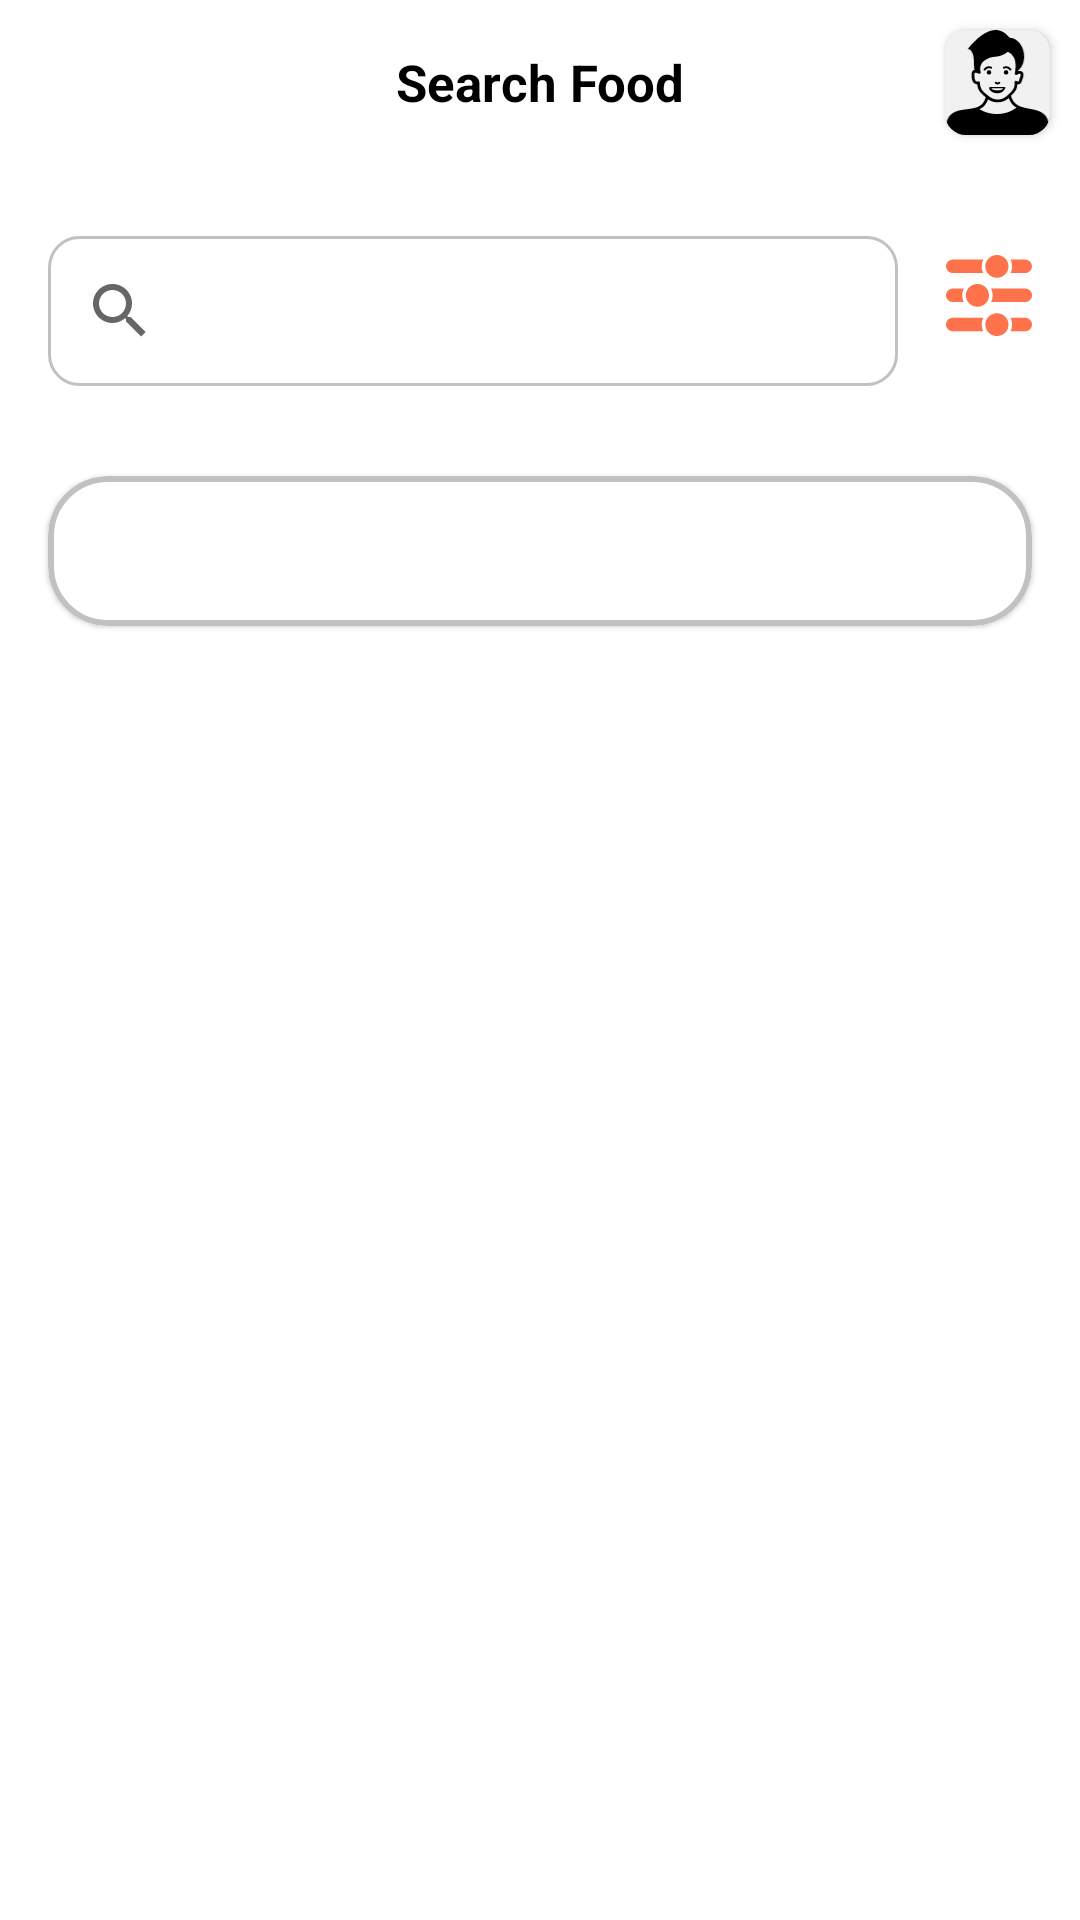

Screen size 1080 × 1920. Icon name, then its box in pixels as (x1, y1, x2, y2):
man person: (945, 30, 1050, 135)
